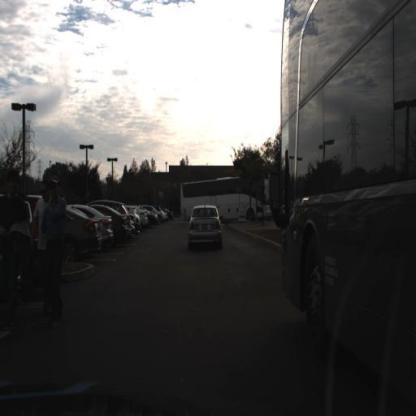car: (277, 2, 416, 354), (37, 202, 90, 253), (63, 206, 105, 260), (187, 204, 227, 255), (95, 202, 138, 244), (100, 207, 115, 248), (114, 210, 131, 245)
pedestrian: (1, 170, 35, 340), (35, 180, 60, 327), (44, 176, 65, 329)
truck: (280, 2, 416, 358), (180, 168, 276, 228), (182, 174, 272, 221)
